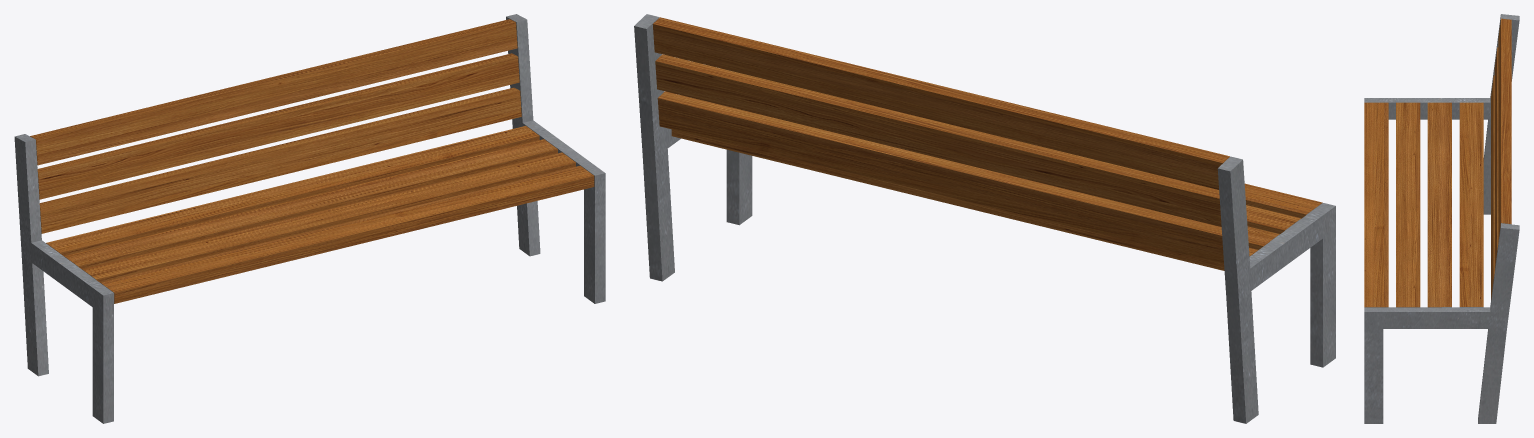
Rendered from bench_1.FBX.
3 renders of one model, left to right at view 1: azimuth 30°, elevation 25°; view 2: azimuth 150°, elevation 25°; view 3: azimuth 270°, elevation 25°, orthographic. The views are drawn at different scales.
Parts seen in each view (by area): view 1: bench_1; view 2: bench_1; view 3: bench_1.
Boxes of the visible parts, x1,y1,x2,y2 form: bench_1: [14, 14, 605, 423]; bench_1: [634, 14, 1335, 423]; bench_1: [1364, 14, 1519, 423].
Size of the model in its own units: 188 by 80.53 by 57.75.
